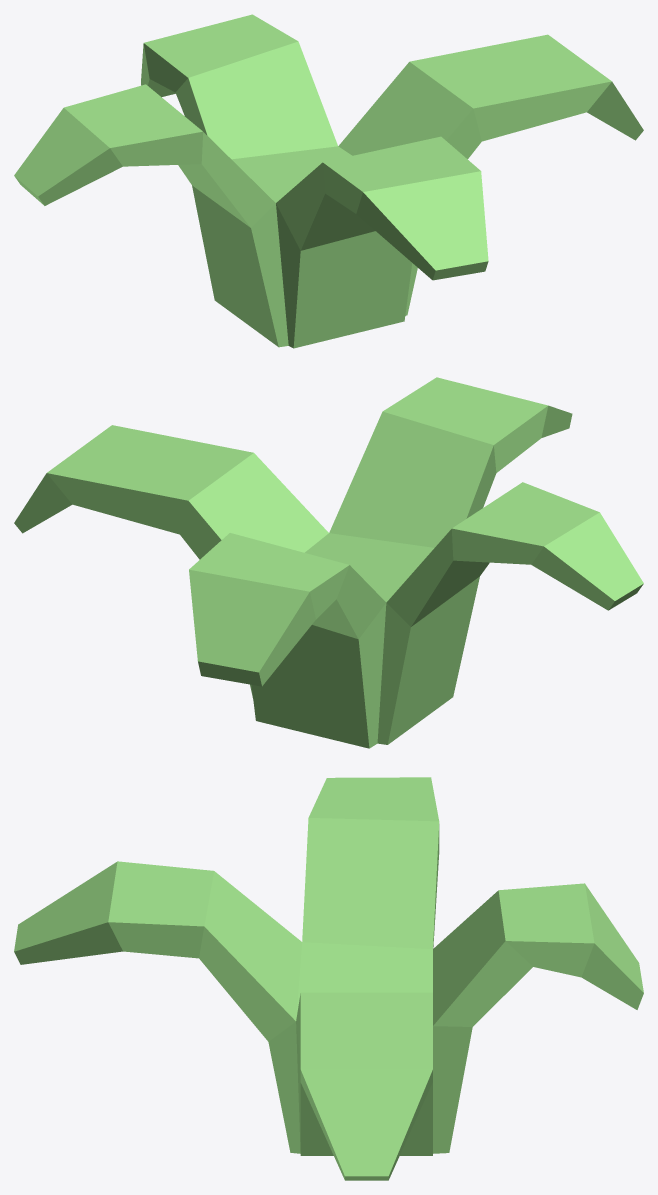
File: fern.glb
3 renders of one model, top to bottom at view 1: azimuth 30°, elevation 25°; view 2: azimuth 150°, elevation 25°; view 3: azimuth 270°, elevation 25°, orthographic. The views are drawn at different scales.
Parts seen in each view (by area): view 1: fern; view 2: fern; view 3: fern.
Boxes of the visible parts, box(x1,y1,x2,y2) form: fern: box(14, 14, 643, 348); fern: box(14, 377, 643, 748); fern: box(14, 777, 643, 1180).
Size of the model in its own units: 10.82 by 3.99 by 9.52.
